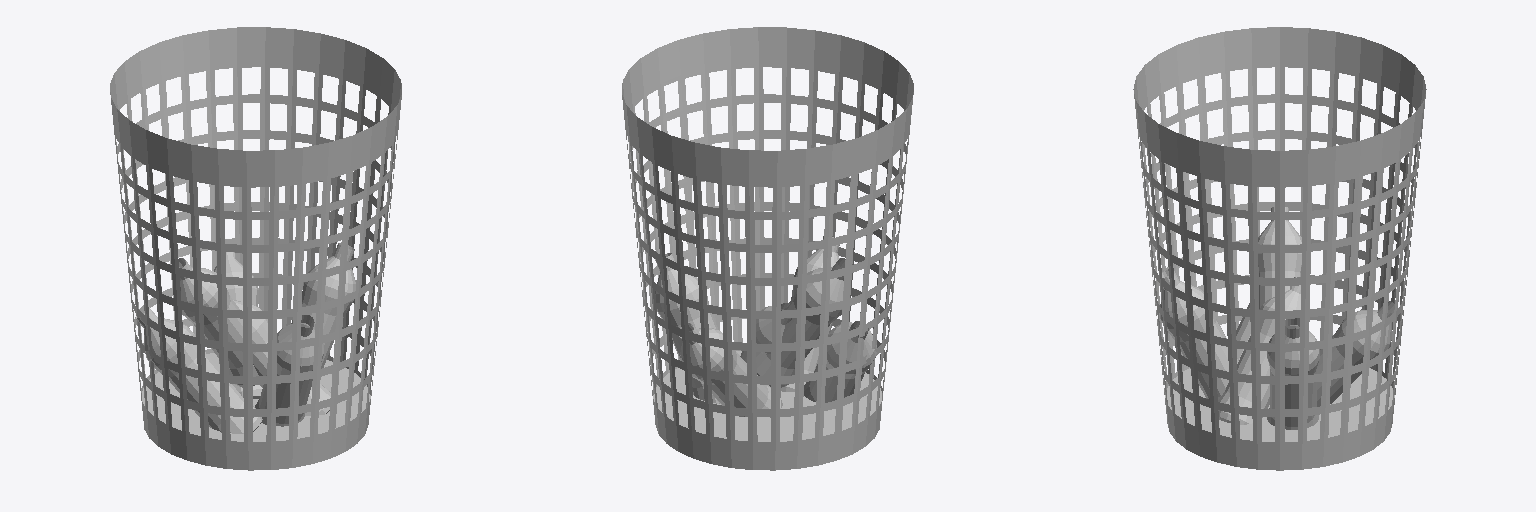
The model's file is DustbinWithCan_000033.obj.
3 renders of one model, left to right at view 1: azimuth 30°, elevation 25°; view 2: azimuth 150°, elevation 25°; view 3: azimuth 270°, elevation 25°, orthographic.
Parts seen in each view (by area): view 1: Cylinder, Plane.005, Plane.006, Plane.001, Plane.003, Plane.004, Plane.002; view 2: Cylinder, Plane.006, Plane.002, Plane.005, Plane.003, Plane.001, Plane.004; view 3: Cylinder, Plane.001, Plane.004, Plane.003, Plane.002, Plane.006.
Boxes of the visible parts, x1=… form: Cylinder: x1=110, y1=27, x2=401, y2=470; Plane.005: x1=135, y1=307, x2=262, y2=433; Plane.006: x1=171, y1=258, x2=258, y2=387; Plane.001: x1=255, y1=315, x2=323, y2=426; Plane.003: x1=291, y1=243, x2=355, y2=368; Plane.004: x1=233, y1=300, x2=330, y2=415; Plane.002: x1=214, y1=252, x2=262, y2=398; Cylinder: x1=622, y1=27, x2=913, y2=470; Plane.006: x1=756, y1=258, x2=852, y2=387; Plane.002: x1=679, y1=323, x2=782, y2=416; Plane.005: x1=804, y1=321, x2=876, y2=402; Plane.003: x1=655, y1=253, x2=719, y2=403; Plane.001: x1=770, y1=236, x2=839, y2=391; Plane.004: x1=740, y1=303, x2=791, y2=362; Cylinder: x1=1133, y1=27, x2=1426, y2=470; Plane.001: x1=1160, y1=269, x2=1238, y2=399; Plane.004: x1=1218, y1=277, x2=1300, y2=424; Plane.003: x1=1267, y1=318, x2=1319, y2=429; Plane.002: x1=1317, y1=301, x2=1394, y2=406; Plane.006: x1=1258, y1=207, x2=1301, y2=308.
Size of the model in its own units: 2.6 by 3.27 by 2.6.